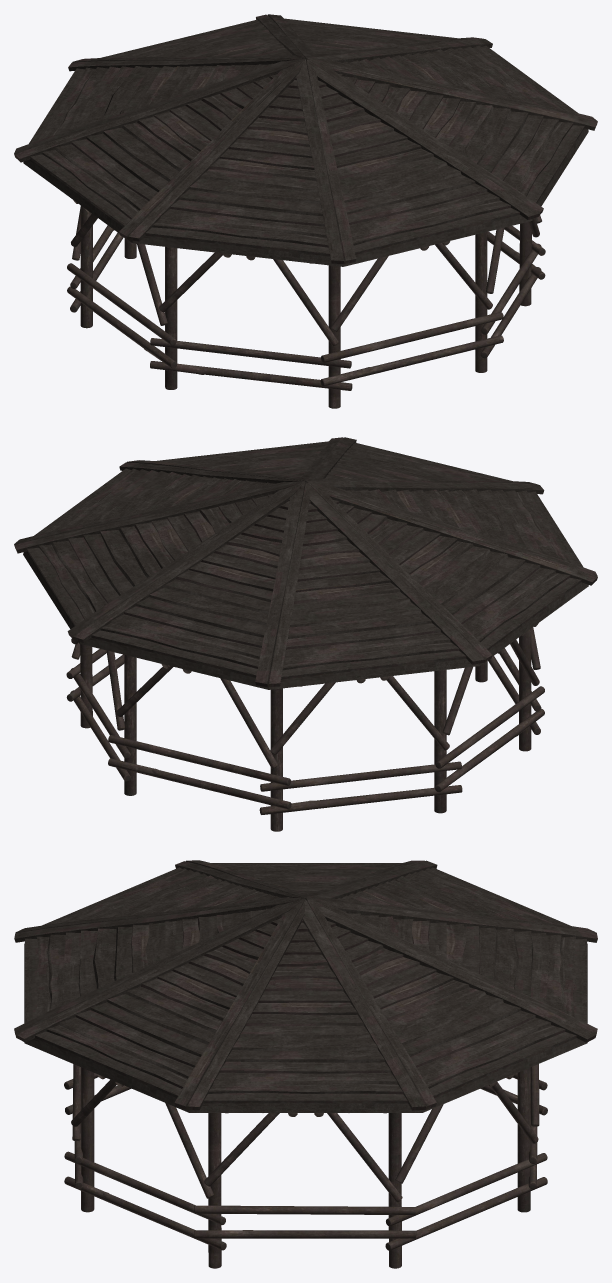
Rendered from yeonja.glb.
3 renders of one model, top to bottom at view 1: azimuth 30°, elevation 25°; view 2: azimuth 150°, elevation 25°; view 3: azimuth 270°, elevation 25°, orthographic. The views are drawn at different scales.
Visible parts, largest first — view 1: Gristmill1, Gristmill1_Gristmill_mat_0.001; view 2: Gristmill1, Gristmill1_Gristmill_mat_0.001; view 3: Gristmill1, Gristmill1_Gristmill_mat_0.001.
Part boxes in pixels (x1,y1,x2,y2): Gristmill1: (14, 14, 597, 390); Gristmill1_Gristmill_mat_0.001: (67, 205, 541, 408); Gristmill1: (14, 437, 597, 813); Gristmill1_Gristmill_mat_0.001: (70, 627, 544, 831); Gristmill1: (14, 860, 597, 1268); Gristmill1_Gristmill_mat_0.001: (64, 1064, 547, 1250).
Size of the model in its own units: 11.98 by 6.22 by 11.98.
Materials: 1 (1 with a texture image).
